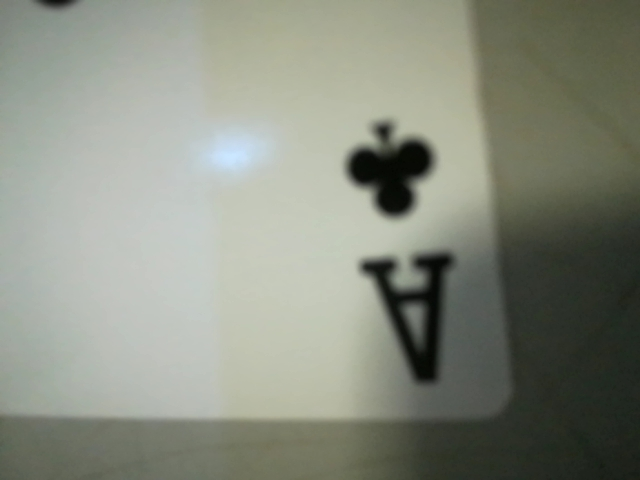mh a: (313, 105, 491, 396)
